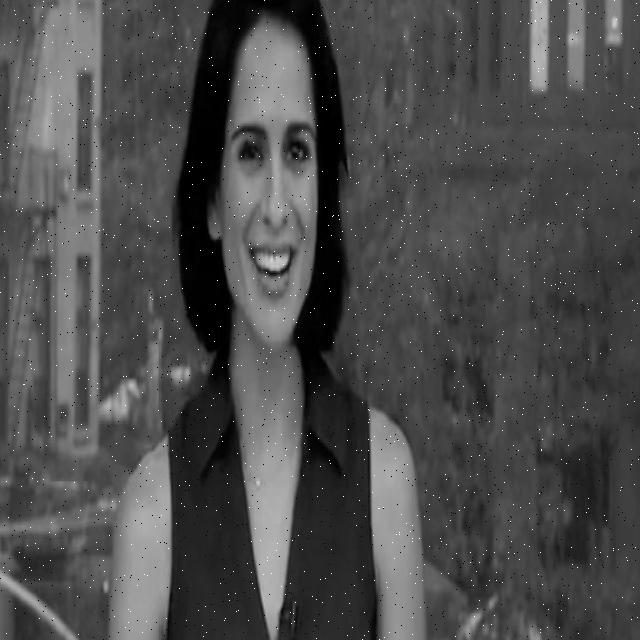puffy_eyes: (238, 161, 266, 176), (285, 158, 307, 171)
